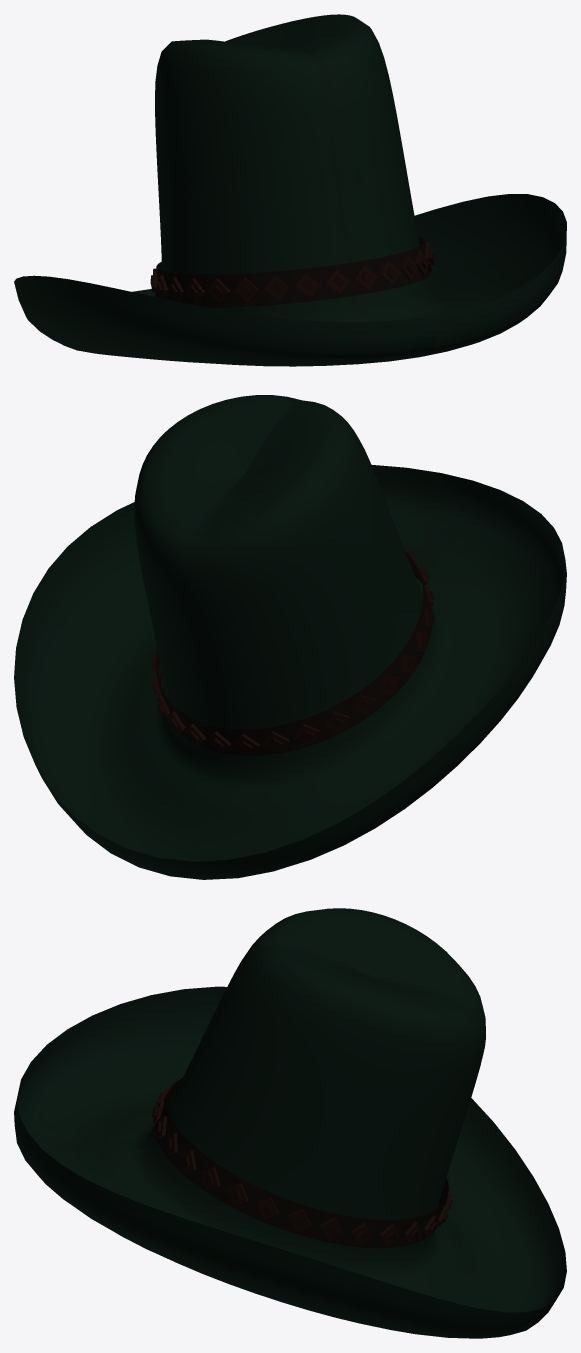
The model's file is hat.rattler-band.glb.
The picture shows the model from 3 angles, top to bottom: view 1: azimuth 30°, elevation 25°; view 2: azimuth 150°, elevation 25°; view 3: azimuth 270°, elevation 25°; orthographic projection. The views are drawn at different scales.
Visible parts, largest first — view 1: Head; view 2: Head; view 3: Head.
Boxes of the visible parts, x1=… form: Head: x1=14, y1=14, x2=566, y2=366; Head: x1=14, y1=395, x2=566, y2=879; Head: x1=14, y1=908, x2=566, y2=1338.
Size of the model in its own units: 0.4216 by 0.3163 by 0.432.
Materials: 1 (1 with a texture image).
